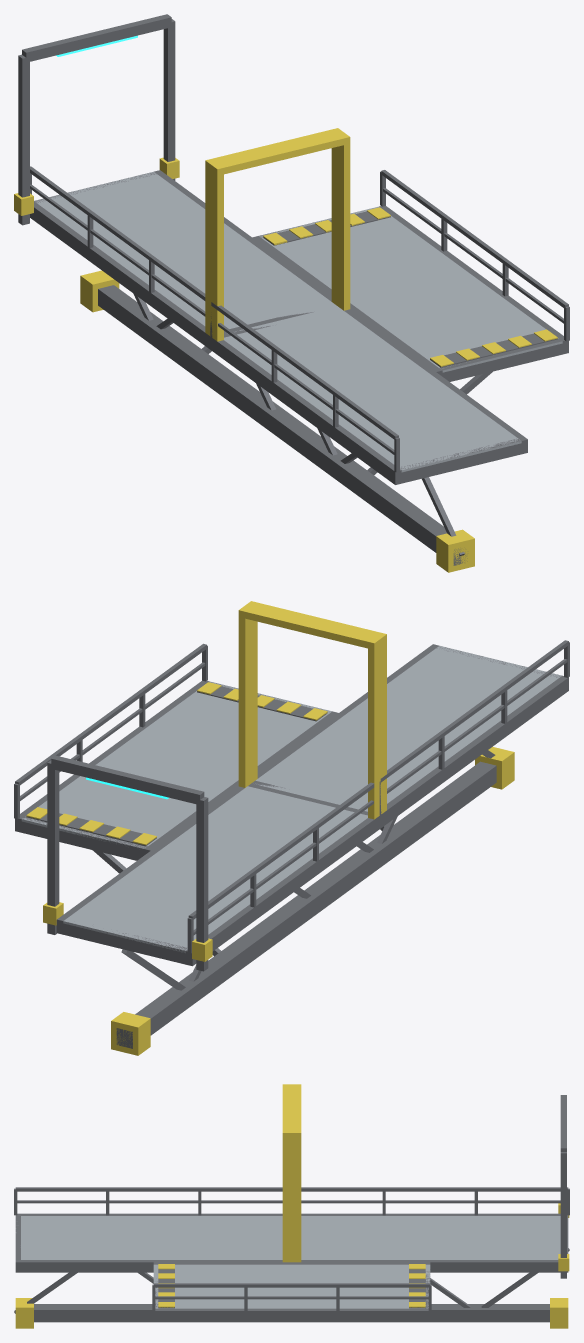
Rendered from scaffold_laser_choke_g20.glb.
3 views of the same model, one above another, from view 1: azimuth 30°, elevation 25°; view 2: azimuth 150°, elevation 25°; view 3: azimuth 270°, elevation 25° (orthographic). The views are drawn at different scales.
Visible parts, largest first — view 1: Deck_b, Deck_s, Deck_a, Spine, Frame_b_-1, Frame_a_-1, BulkheadJamb_1, BulkheadJamb_-1, BulkheadLintel, PortalLintel, Header_s_1, Header_b_1 (+15 smaller); view 2: Deck_a, Deck_b, Deck_s, Spine, Frame_b_-1, Frame_a_-1, BulkheadJamb_1, BulkheadJamb_-1, BulkheadLintel, PortalLintel, PortalPost_-1, Header_s_0 (+16 smaller); view 3: Deck_b, Deck_a, Deck_s, Spine, Frame_s_1, BulkheadJamb_1, Frame_b_1, Frame_a_1, Rail_s_1, Rail_b_-1, Rail_a_-1, MidRail_s_1 (+14 smaller).
Boxes of the visible parts, x1,y1,x2,y2 form: Deck_b: (224, 306, 521, 472); Deck_s: (259, 206, 562, 372); Deck_a: (34, 171, 337, 328); Spine: (98, 285, 467, 565); Frame_b_-1: (211, 337, 401, 484); Frame_a_-1: (30, 202, 207, 347); BulkheadJamb_1: (331, 128, 350, 310); BulkheadJamb_-1: (205, 160, 223, 341); BulkheadLintel: (205, 128, 349, 174); PortalLintel: (22, 14, 171, 61); Header_s_1: (433, 338, 564, 381); Header_b_1: (391, 438, 527, 484); Deck_a: (63, 786, 367, 953); Deck_b: (255, 645, 561, 811); Deck_s: (21, 681, 331, 849); Spine: (116, 761, 496, 1048); Frame_b_-1: (380, 675, 567, 828); Frame_a_-1: (186, 818, 376, 966); BulkheadJamb_1: (238, 603, 257, 787); BulkheadJamb_-1: (368, 634, 386, 819); BulkheadLintel: (238, 601, 386, 649); PortalLintel: (51, 755, 204, 804); PortalPost_-1: (196, 797, 208, 971); Header_s_0: (15, 815, 149, 860); Deck_b: (16, 1216, 282, 1259); Deck_a: (301, 1216, 560, 1259); Deck_s: (153, 1264, 430, 1308); Spine: (34, 1304, 549, 1322); Frame_s_1: (153, 1308, 428, 1321); BulkheadJamb_1: (282, 1130, 301, 1262); Frame_b_1: (15, 1260, 282, 1272); Frame_a_1: (301, 1260, 560, 1272); Rail_s_1: (153, 1283, 430, 1287); Rail_b_-1: (15, 1187, 282, 1191); Rail_a_-1: (301, 1187, 568, 1191); MidRail_s_1: (155, 1296, 428, 1299).
Size of the model in its own units: 5.24 by 5.15 by 12.07.
